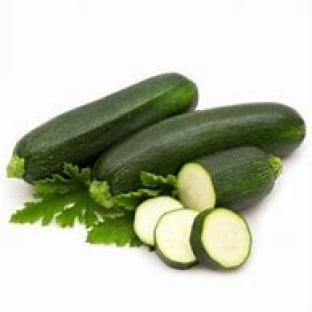Zucchini: (9, 73, 197, 182), (95, 104, 305, 193), (177, 148, 281, 210), (190, 209, 252, 269), (155, 209, 197, 268), (134, 196, 183, 245)
